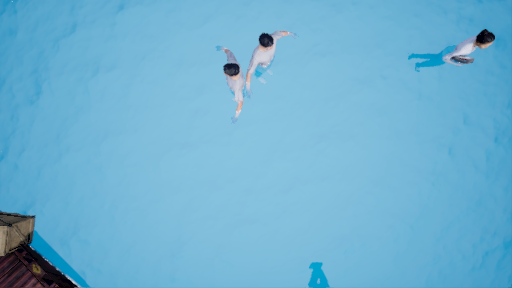person: (398, 26, 496, 86), (242, 29, 295, 87), (213, 43, 249, 118)
